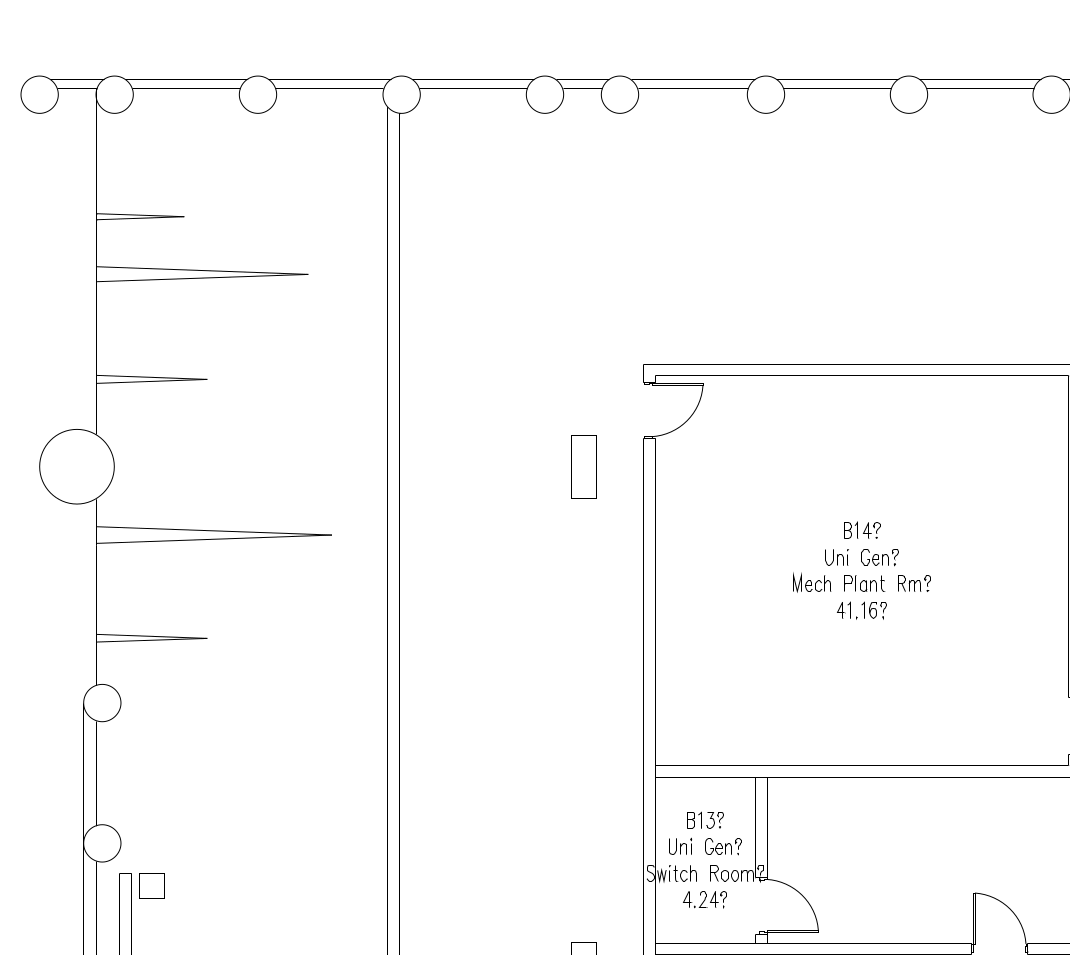door: (646, 381, 712, 442), (766, 875, 832, 936), (966, 883, 1032, 944)
